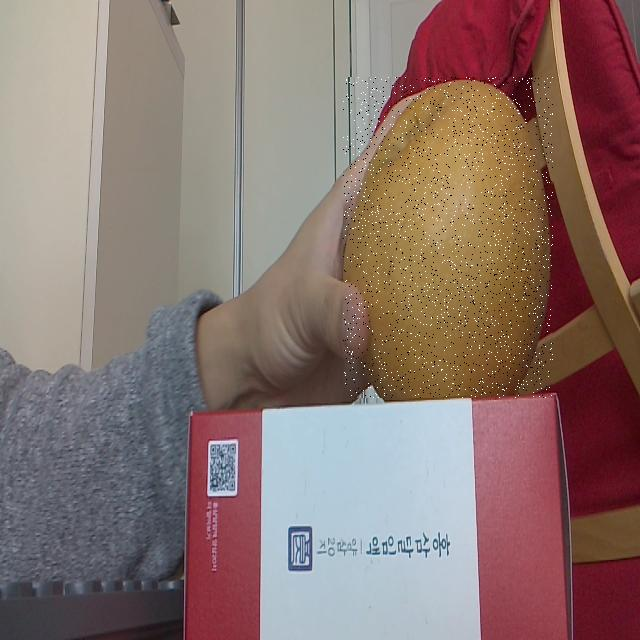pear: (344, 77, 554, 398)
